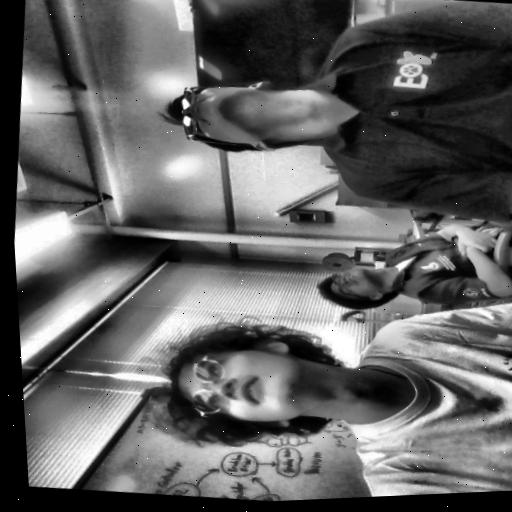Daifuku: (147, 309, 352, 455)
Not Daifuku: (161, 64, 309, 163), (311, 257, 396, 312)
